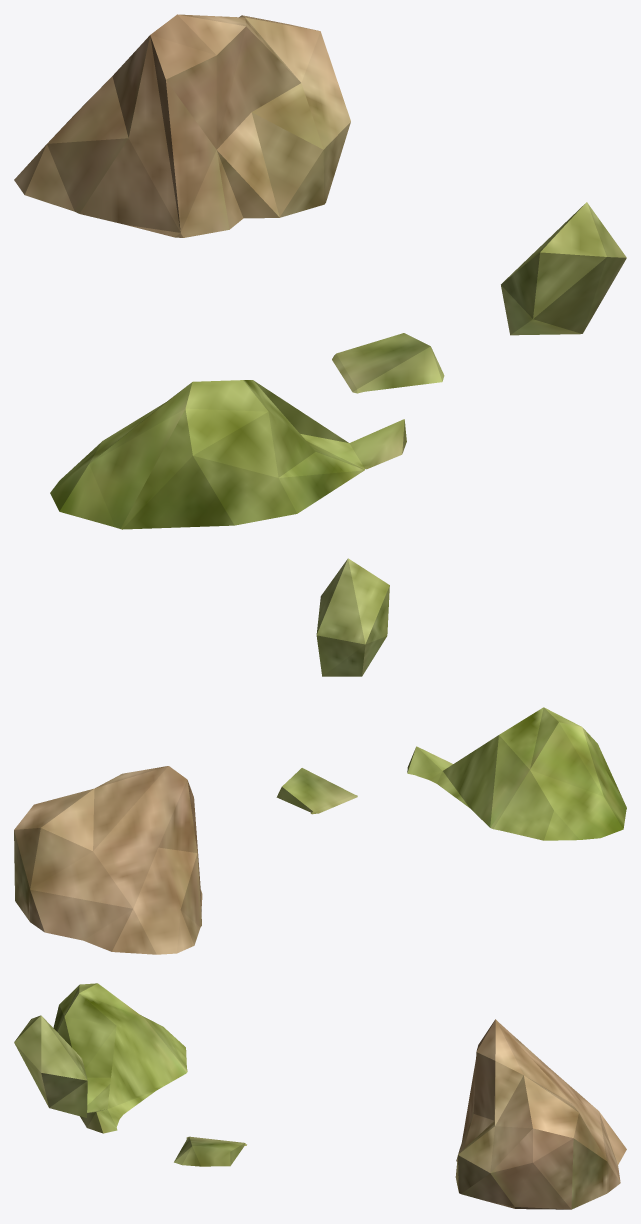
3 renders of one model, top to bottom at view 1: azimuth 30°, elevation 25°; view 2: azimuth 150°, elevation 25°; view 3: azimuth 270°, elevation 25°, orthographic. The views are drawn at different scales.
Bounding box in the file's own units: 0.9122 × 0.3661 × 1.25.
Materials: 1 (1 with a texture image).
